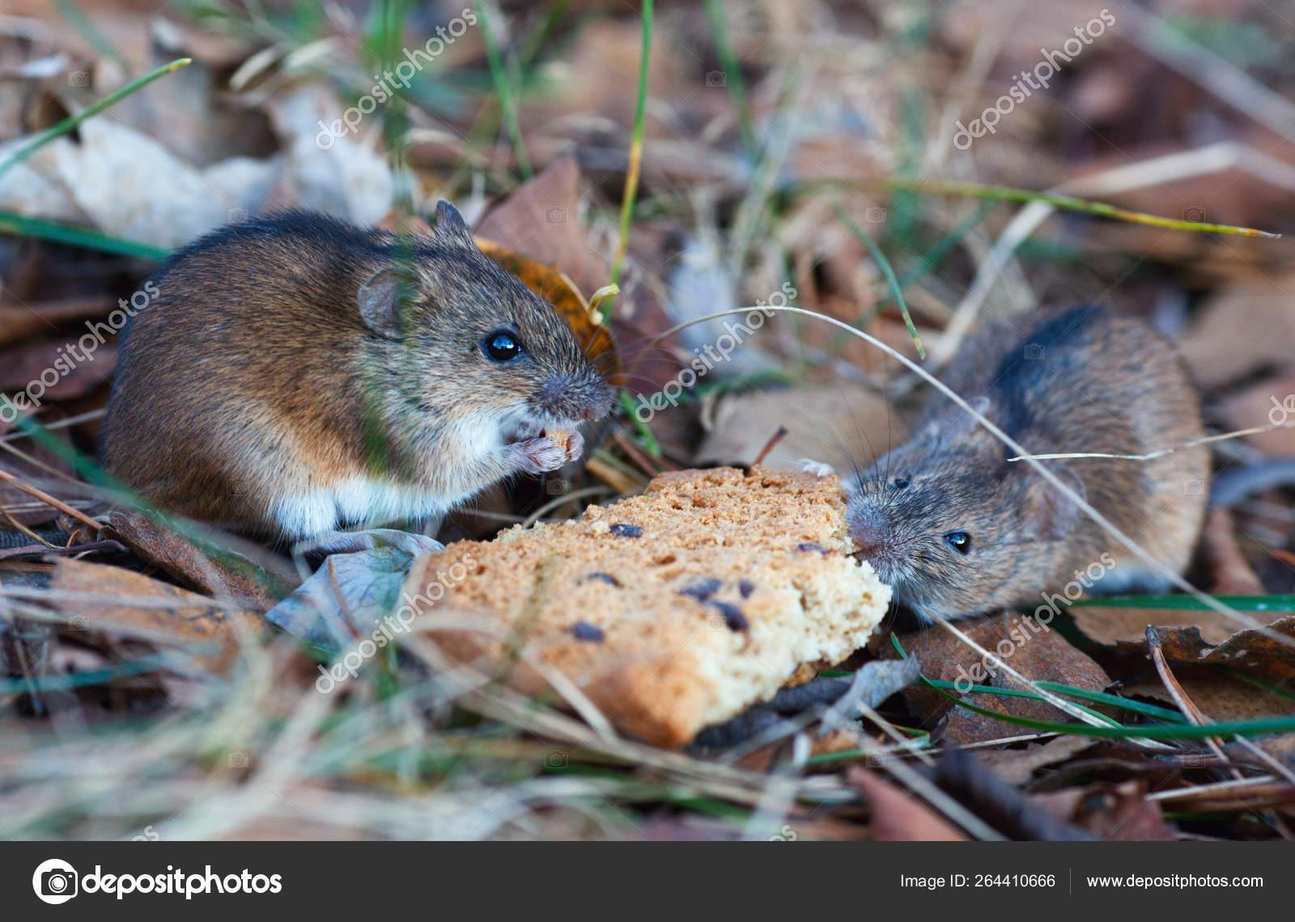rat: (117, 212, 618, 544), (845, 304, 1208, 621)
